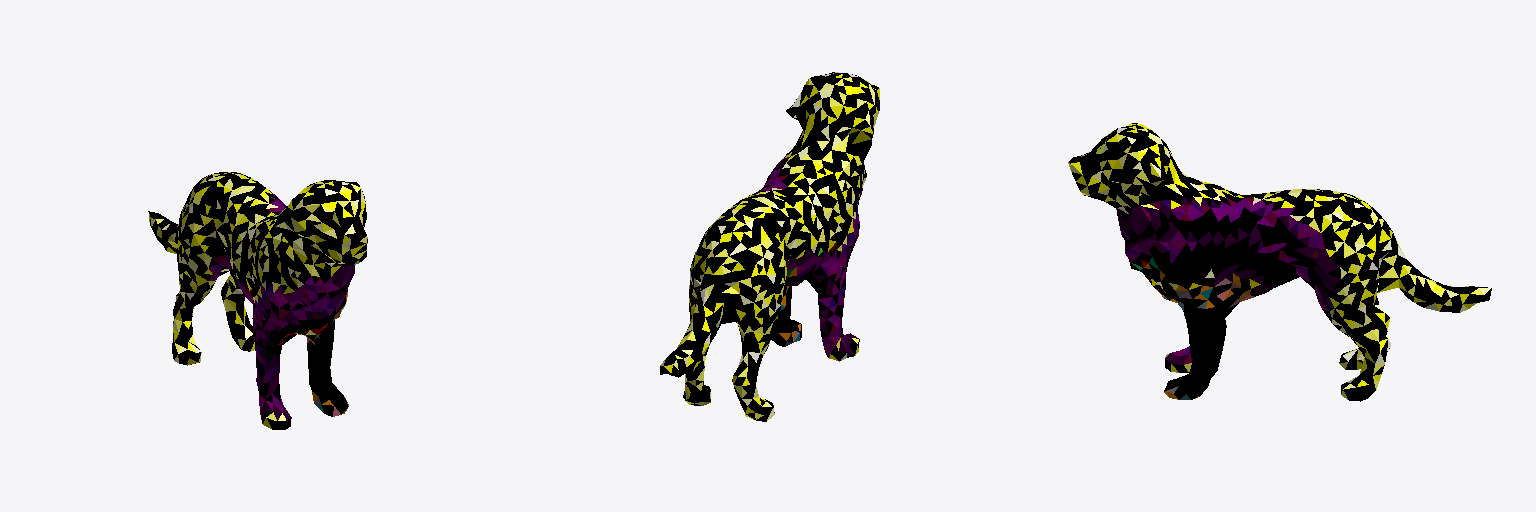
The model's file is golden-downsampled.obj.
3 views of the same model, side by side, from view 1: azimuth 30°, elevation 25°; view 2: azimuth 150°, elevation 25°; view 3: azimuth 270°, elevation 25° (orthographic).
Size of the model in its own units: 0.4401 by 1.23 by 1.88.